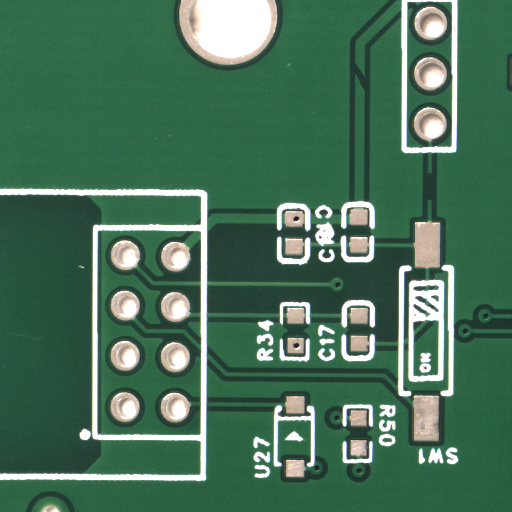Open_circuit: (360, 77, 371, 102), (427, 186, 435, 213)
